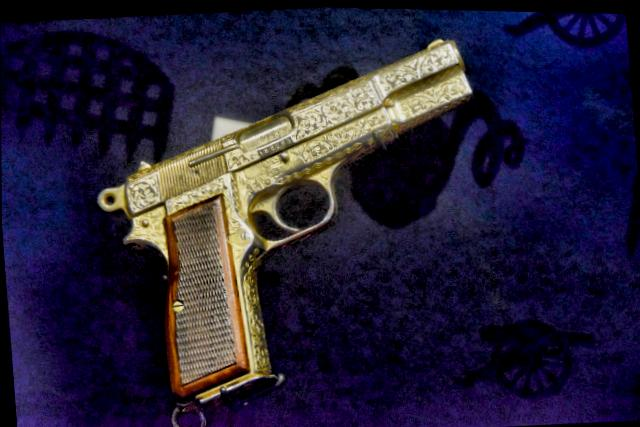pistol: (76, 23, 491, 414)
